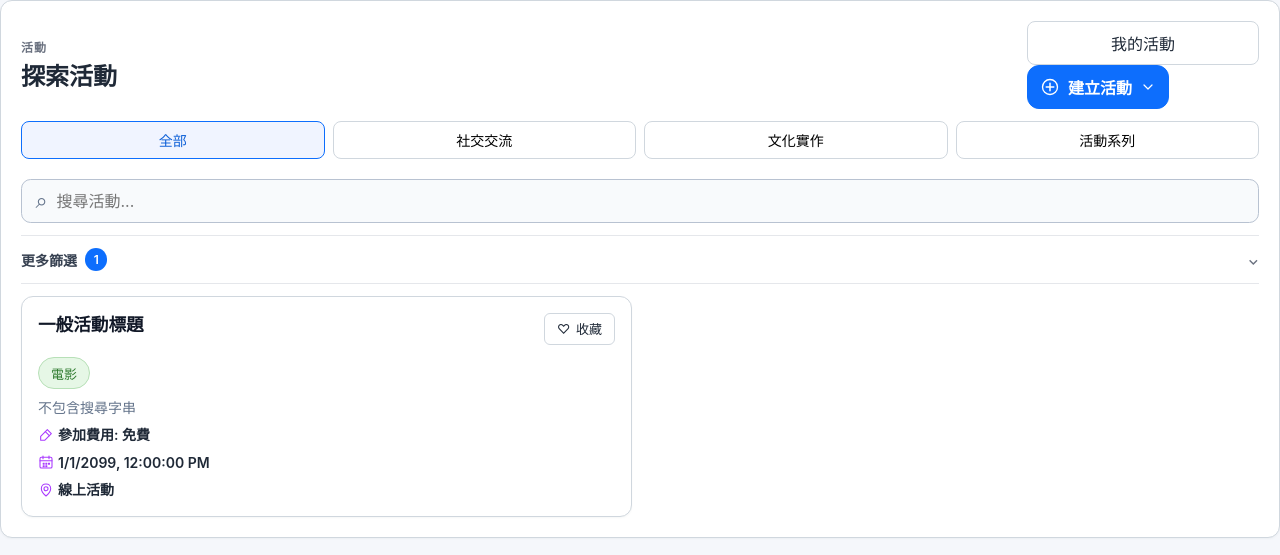
Scenario: EventsPage server-side search contract › uses one accessible create menu for event and series creation
Click the button "建立活動" at (1098, 87), box [1027,65,1169,109]
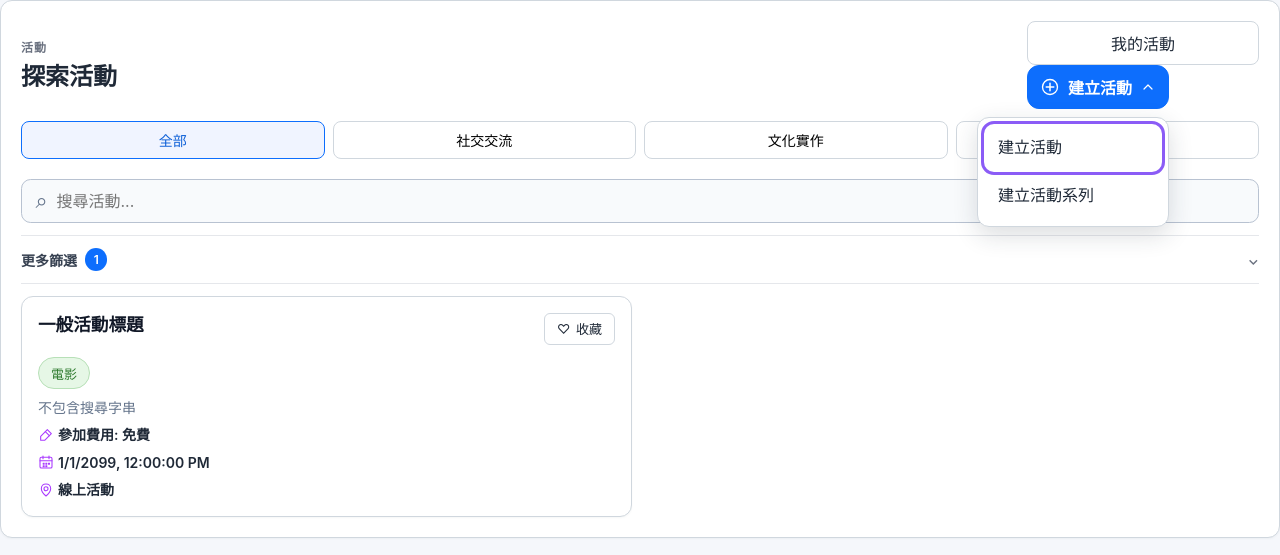
expect the menu is shown: met, box [977,117,1169,227]
Press Arrowdown
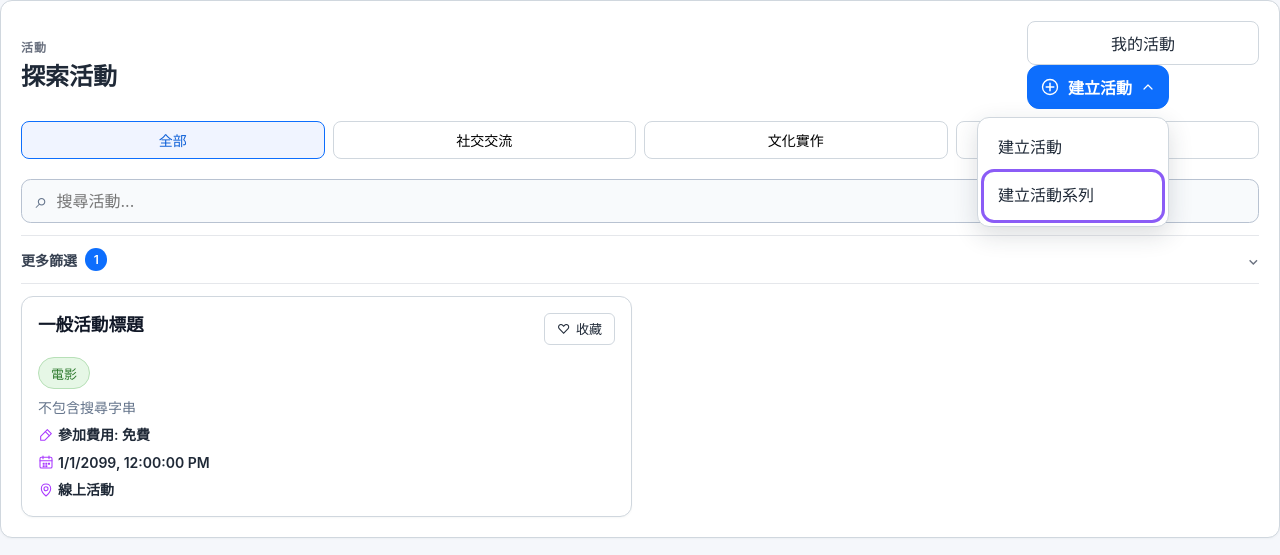
Press Arrowdown
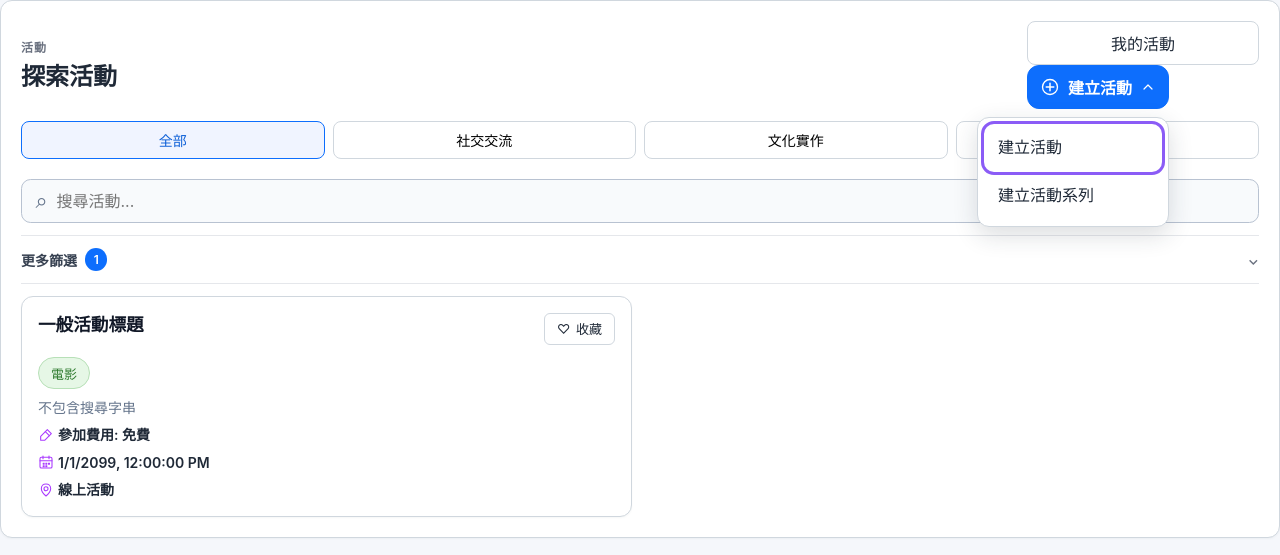
Click the heading "探索活動" at (69, 75), box [21,57,117,92]
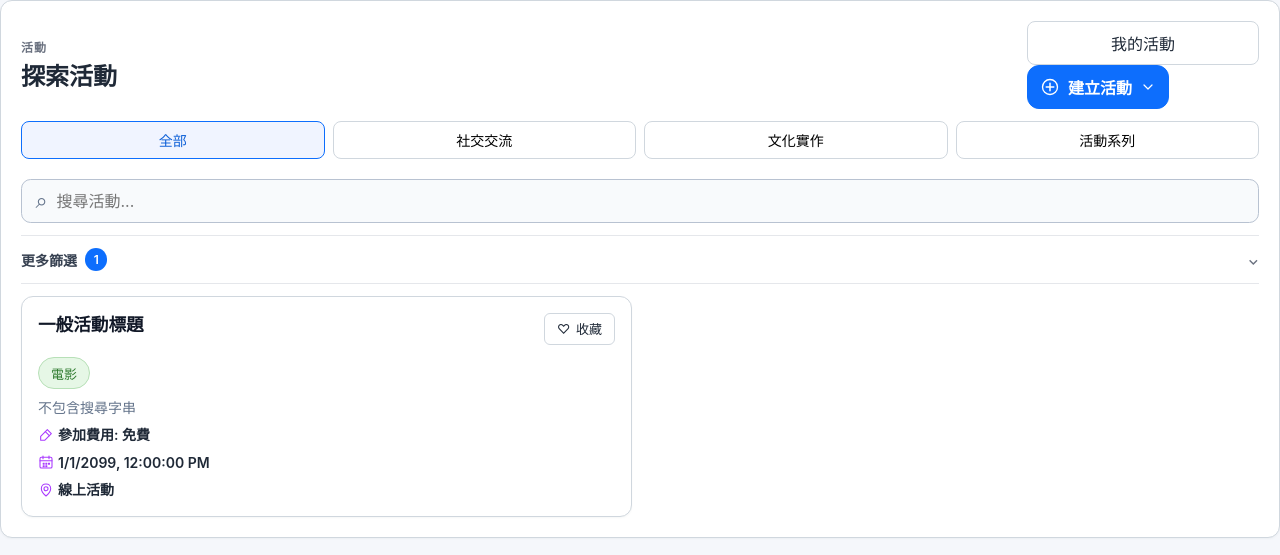
expect the menu is gone: met
Click the button "建立活動" at (1098, 87), box [1027,65,1169,109]
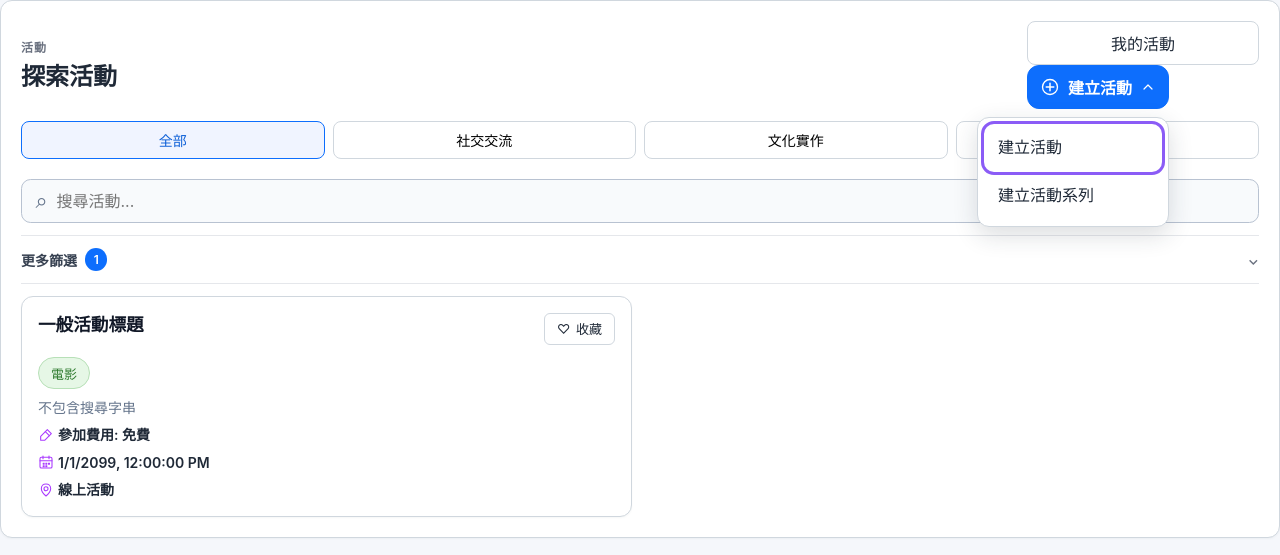
Press Escape
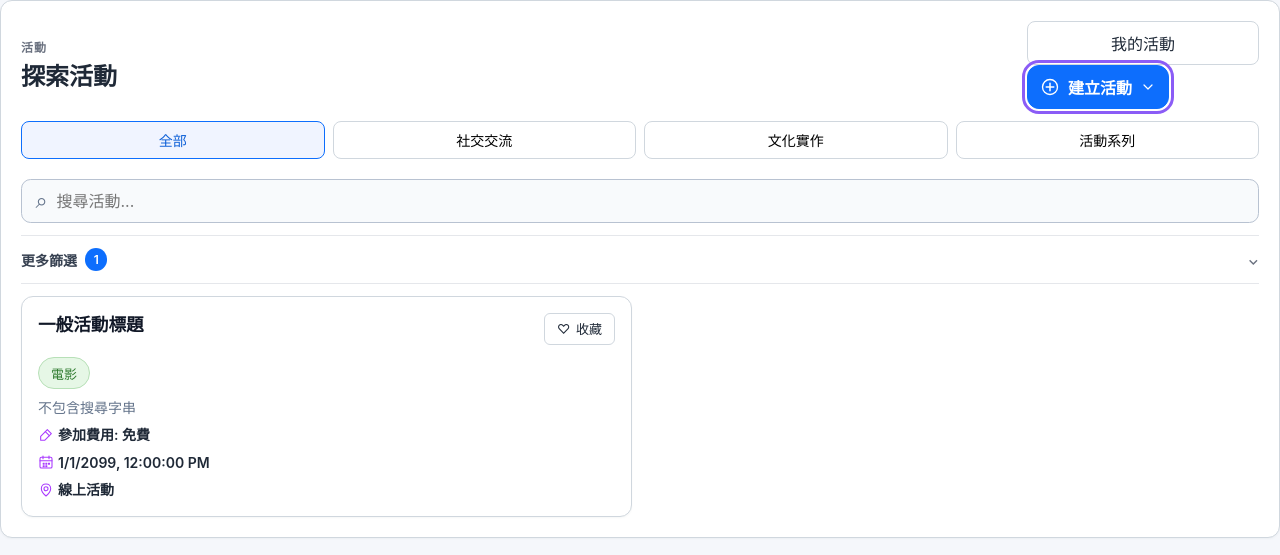
expect the menu is gone: met
